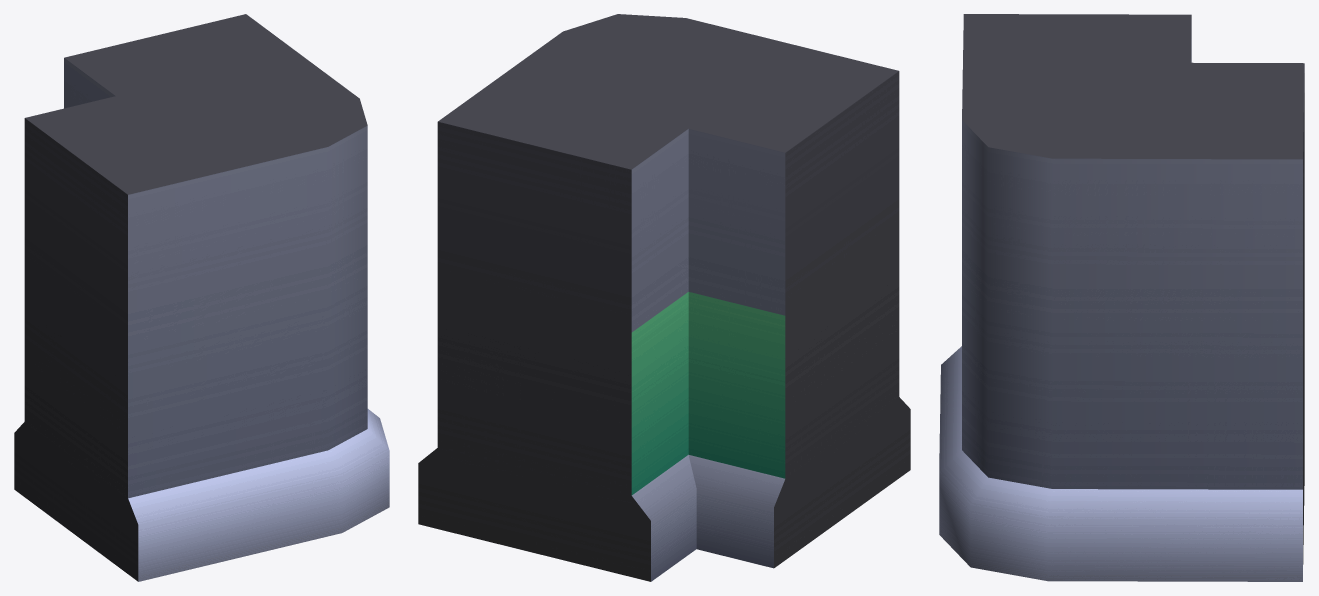
The model's file is wall-corner_lev2.glb.
The picture shows the model from 3 angles, left to right: view 1: azimuth 30°, elevation 25°; view 2: azimuth 150°, elevation 25°; view 3: azimuth 270°, elevation 25°; orthographic projection. The views are drawn at different scales.
Visible parts, largest first — view 1: wall-corner_lev2; view 2: wall-corner_lev2; view 3: wall-corner_lev2.
Part boxes in pixels (box(x1,y1,x2,y2)): wall-corner_lev2: box(14, 14, 389, 581); wall-corner_lev2: box(418, 14, 910, 581); wall-corner_lev2: box(939, 14, 1304, 581).
Size of the model in its own units: 8.06 by 10 by 8.03.
1 material, 1 textured.
